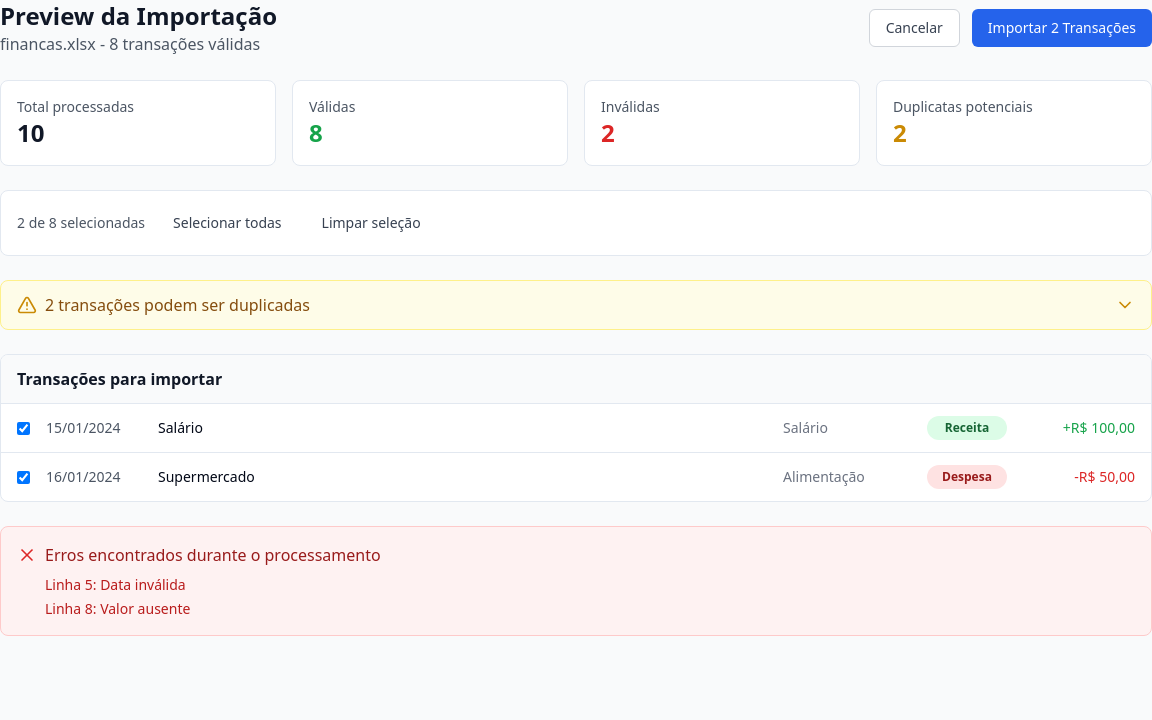
Test: ImportPage - Preview and Confirmation › Duplicate Transactions Section › should toggle duplicate section visibility when clicked
This screenshot has width=1152, height=720.
Check: the text "Restaurante" is not shown
Click to expand
Click the button "2 transações podem ser duplicadas".
click(182, 305)  # box [1,281,1151,329]
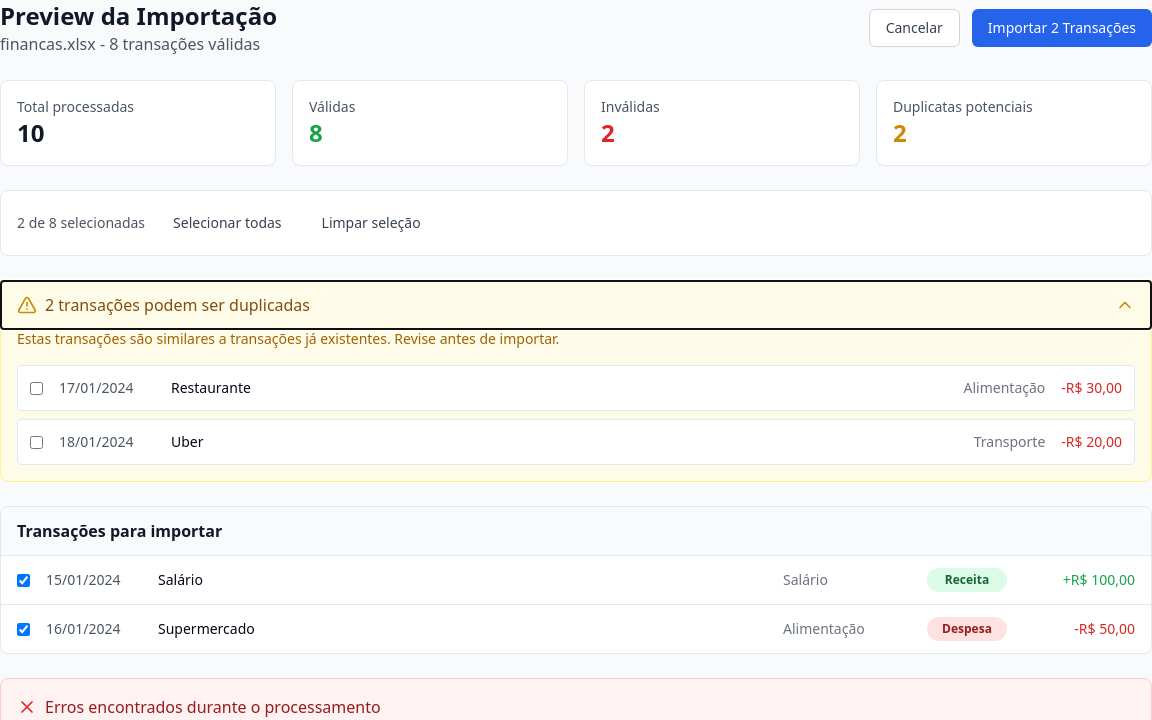
Check: the text "Restaurante" is shown, box [171,378,251,397]
Check: the text "Uber" is shown, box [171,432,204,451]
